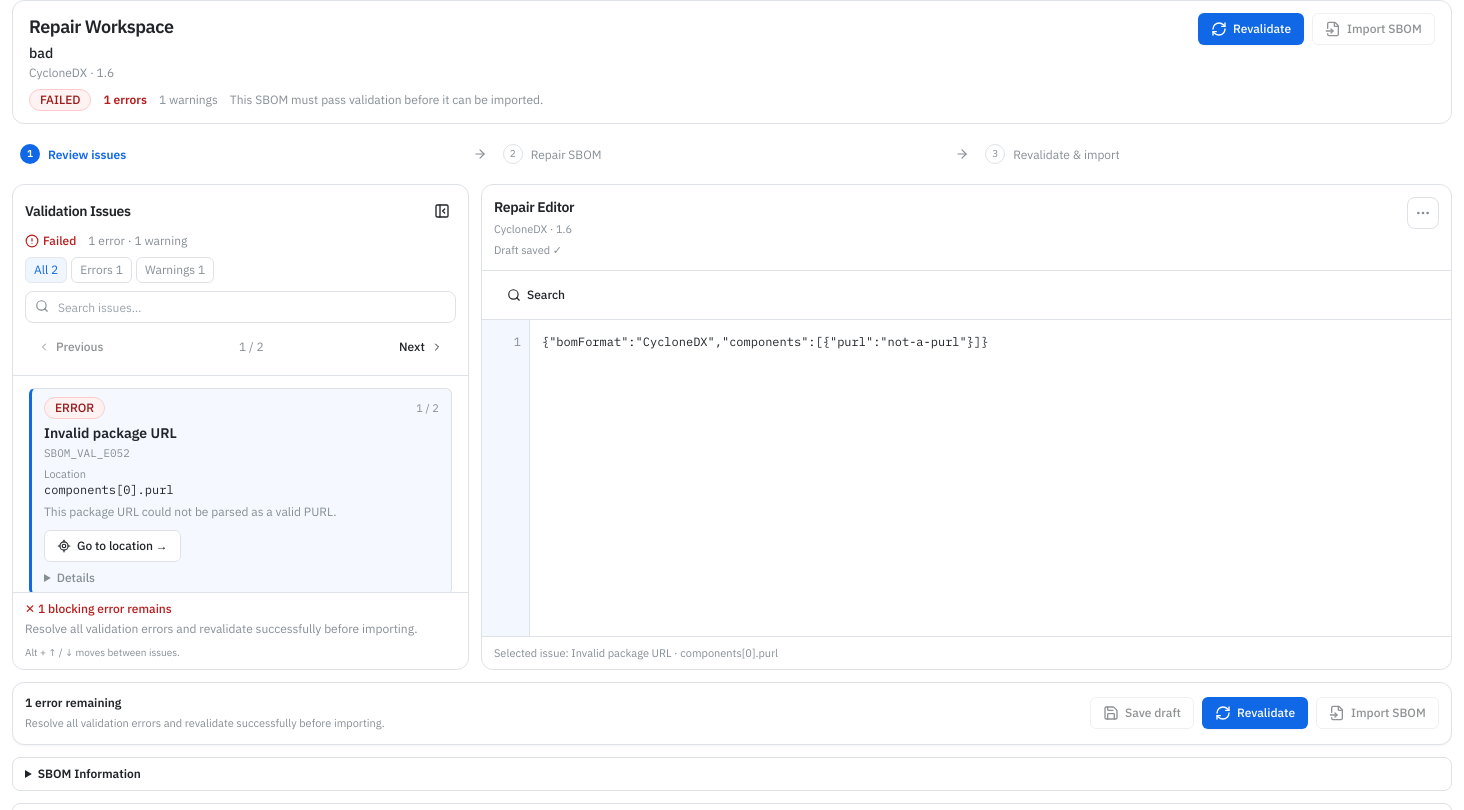
Scenario: Repair Workspace workflow › filters and searches issues using existing severities and classifications
Click the button "Warnings 1" at x=175, y=270, box [136,257,214,283]
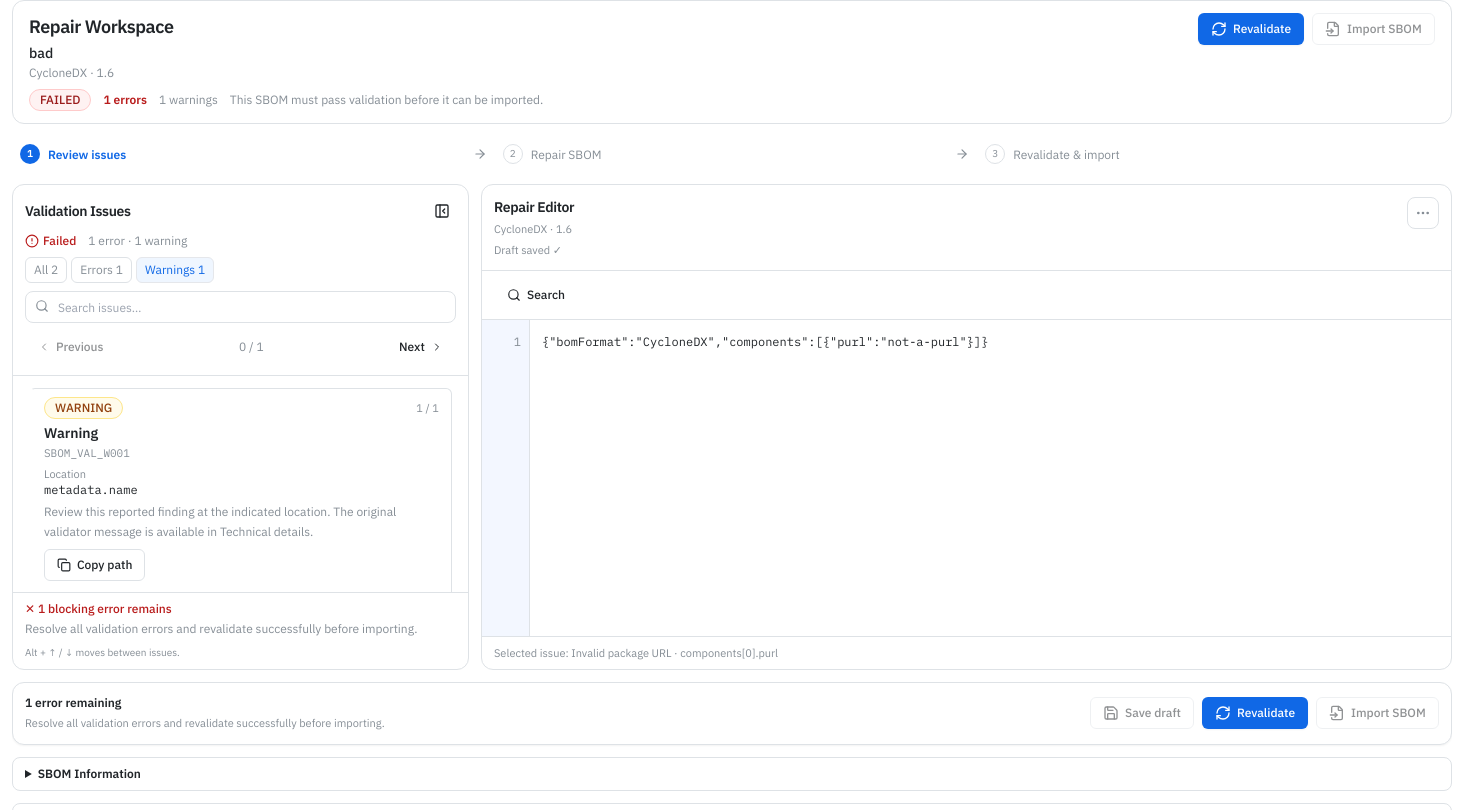
Type "no-match" into the field named "Search validation issues" at x=240, y=307, box [25,291,456,323]
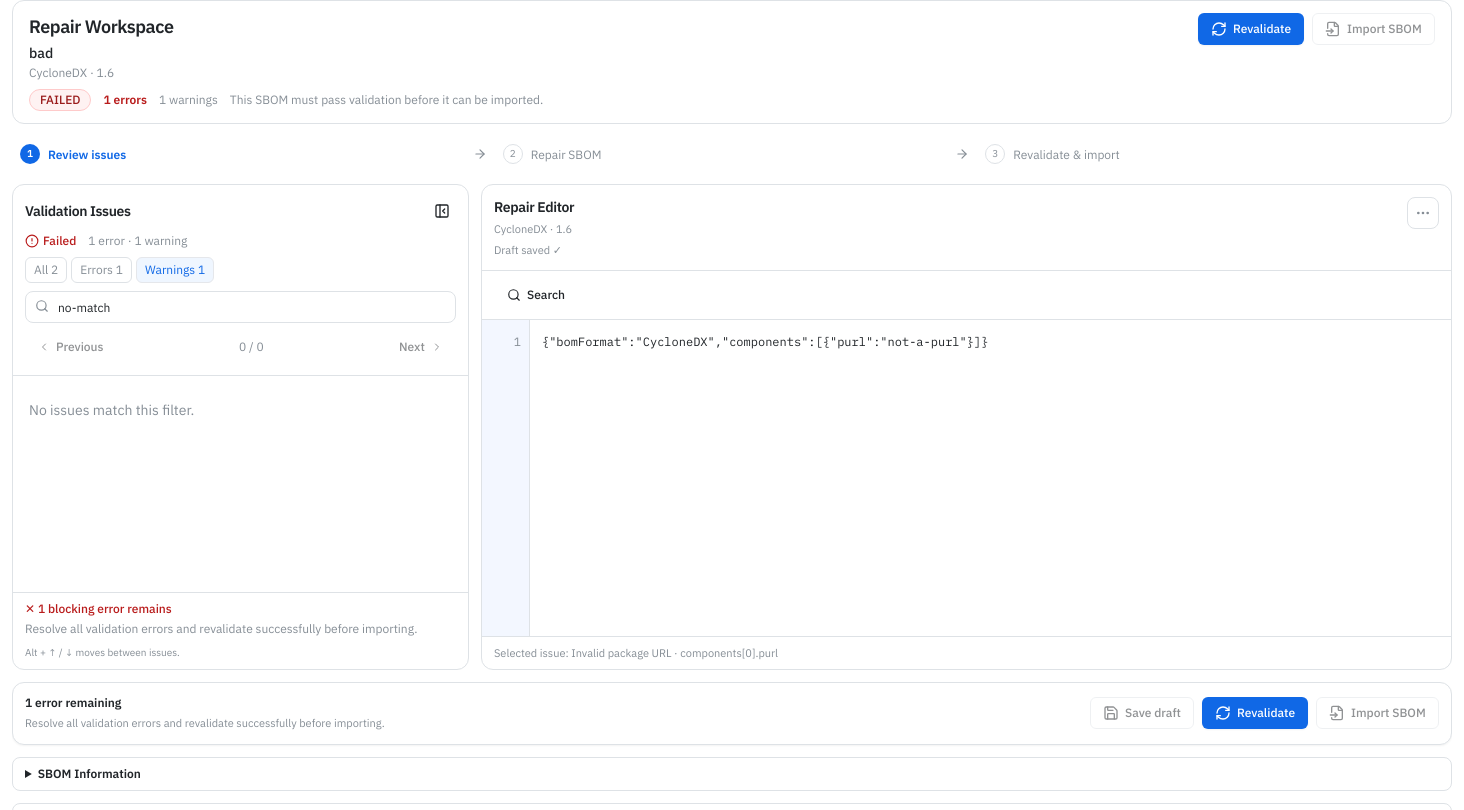
Expected: the text "No issues match this filter." is shown, [29,401,194,419]
